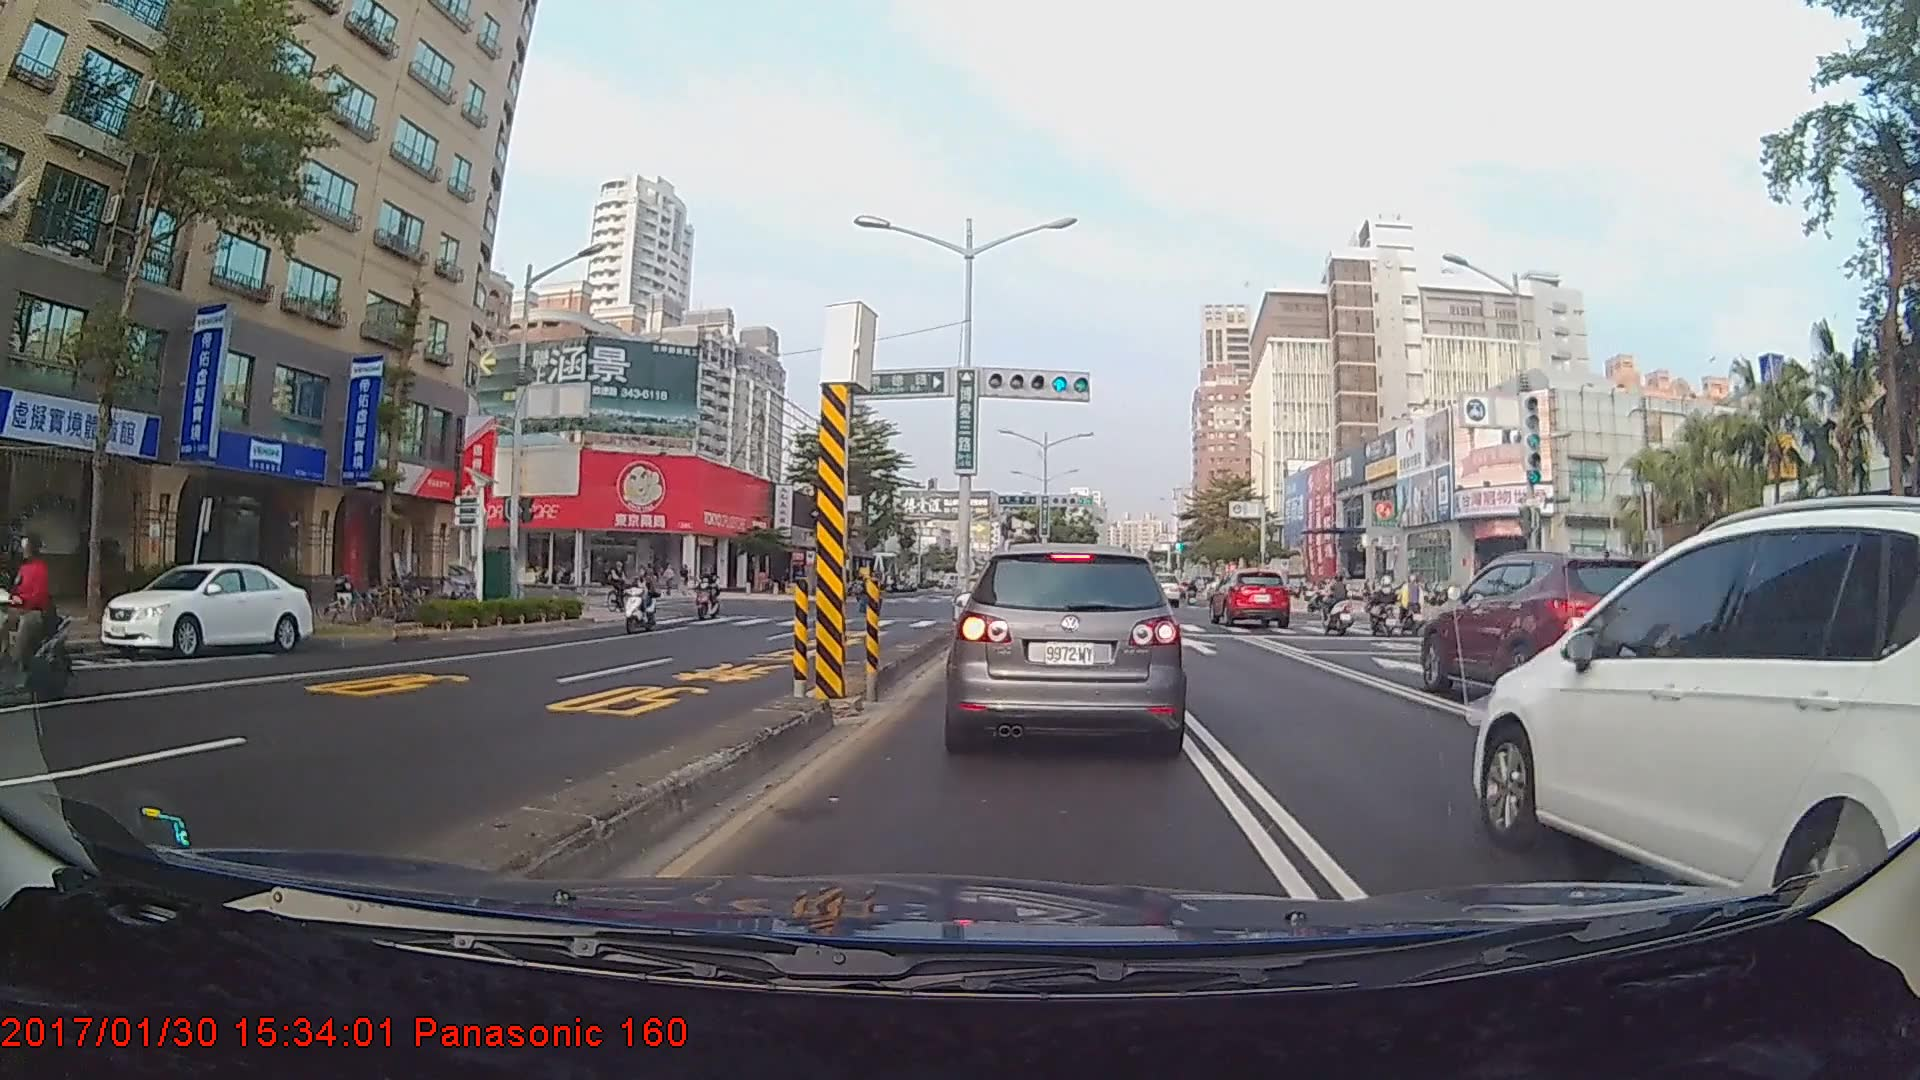rider: (0, 536, 79, 702), (620, 565, 664, 641), (1313, 573, 1365, 637), (1361, 574, 1410, 639), (606, 557, 642, 622), (698, 568, 729, 625)
vehicle: (1469, 498, 1920, 884), (953, 541, 1182, 752), (1420, 550, 1696, 708), (100, 561, 311, 659), (1211, 567, 1291, 626), (1143, 569, 1180, 606)
